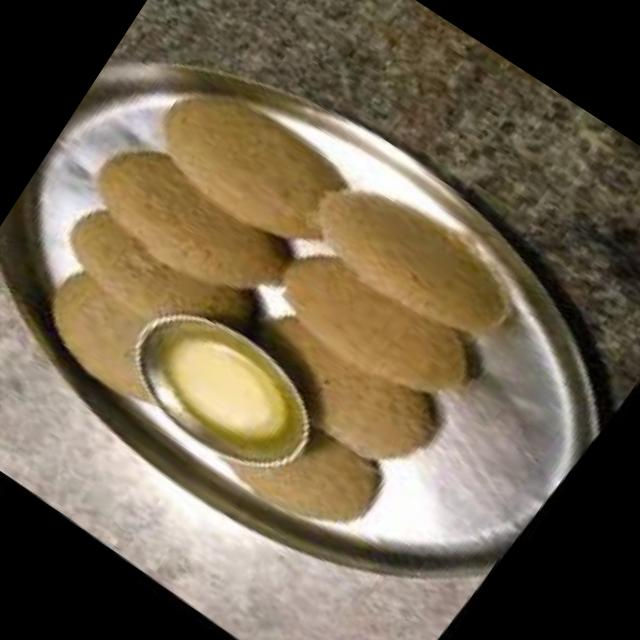idli: (293, 160, 539, 368), (76, 134, 315, 336), (137, 70, 372, 274), (232, 296, 463, 495), (53, 190, 282, 385), (266, 233, 494, 428), (218, 392, 403, 560), (30, 272, 205, 426)
